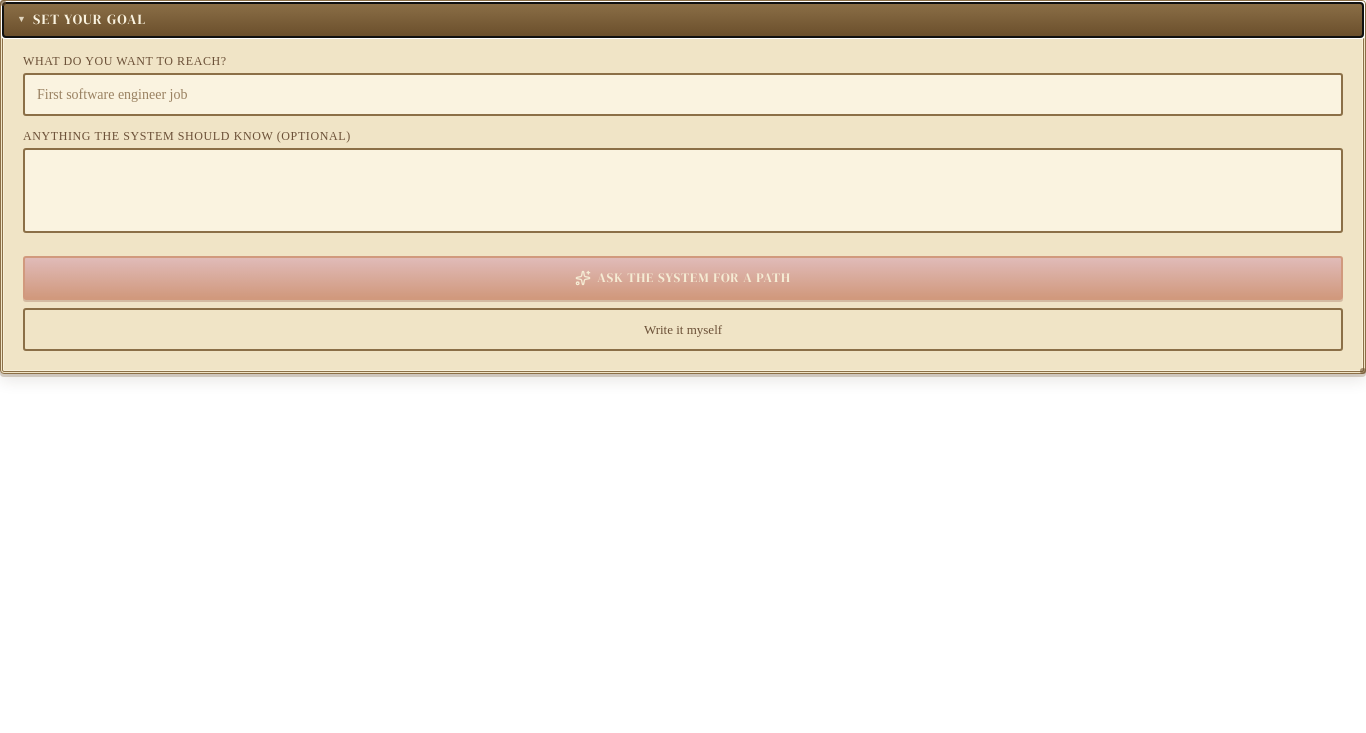
PathDraftEditor › offers empty milestones, never a sample path, when the System is unavailable
Type "Run a marathon" into the field labelled "What do you want to reach?" at (683,94), box x1=23 y1=73 x2=1343 y2=116
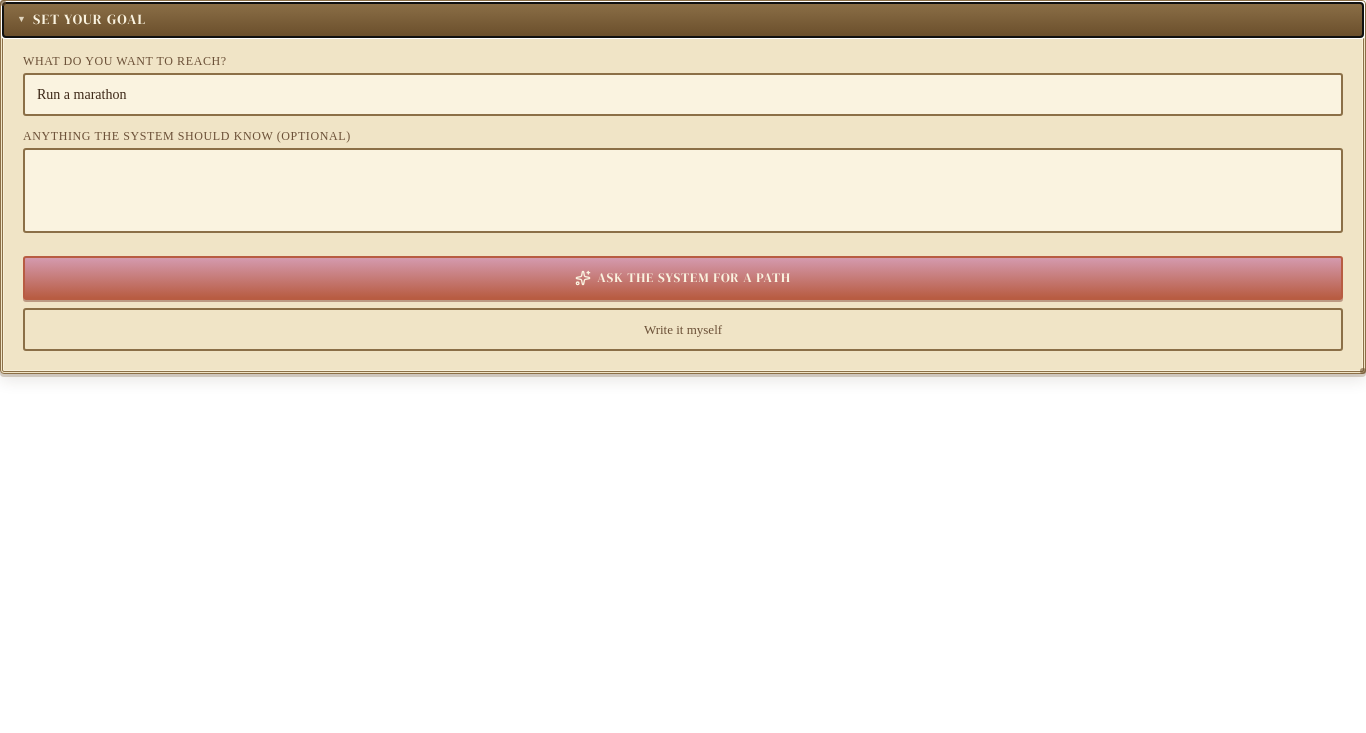
Click the button "Ask the System for a path" at (683,278), box x1=23 y1=256 x2=1343 y2=300
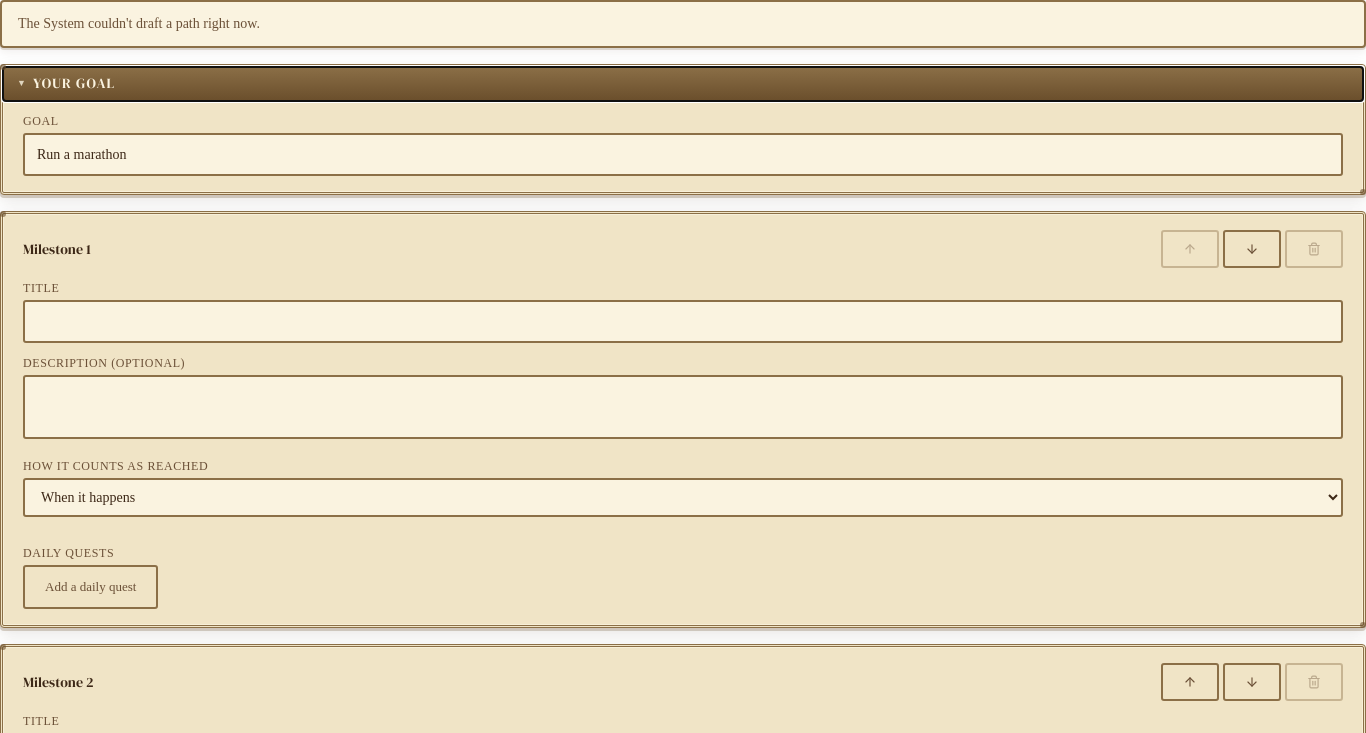
Result: the message reads "The System couldn't draft a path right now." at x1=18 y1=16 x2=260 y2=31
Result: the 1st field labelled "Title" is empty at x1=23 y1=300 x2=1343 y2=343
Result: the number of headings "Milestone 1" is 3
